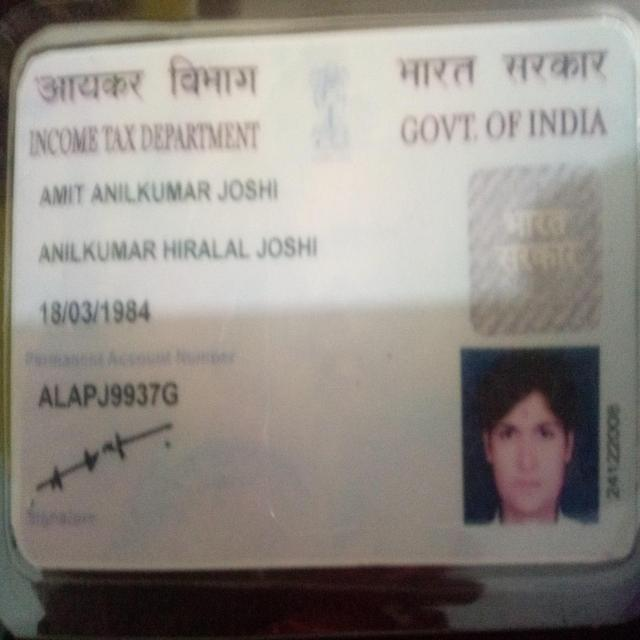pan_card: (21, 38, 629, 552)
